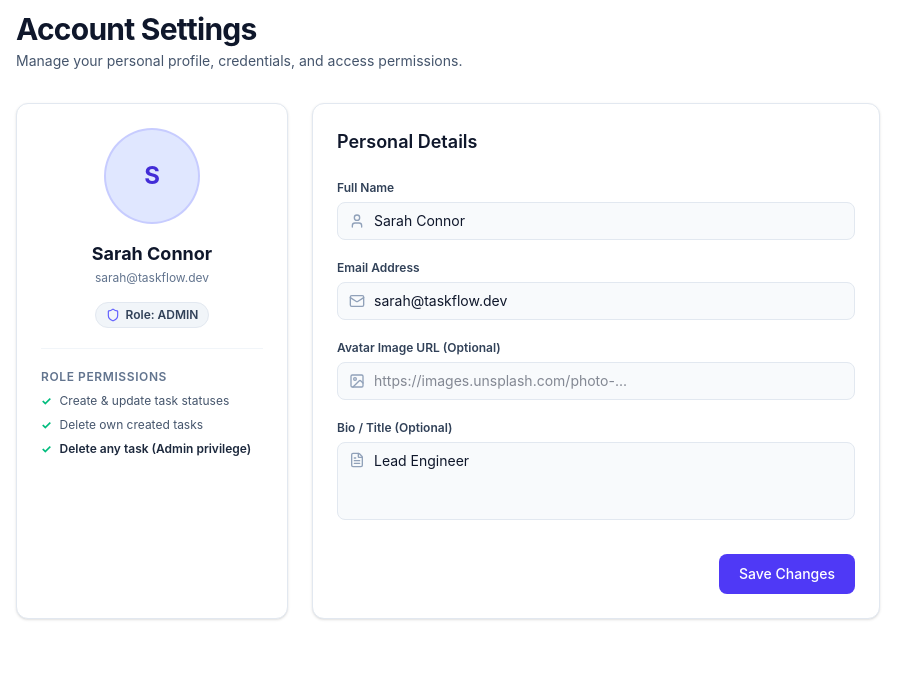
it: <ProfilePage /> › submits updated profile details on form save
Replace the text in the field showing "Sarah Connor" below "Full Name" with "Sarah J. Connor" at (596, 221), box [337,202,855,240]
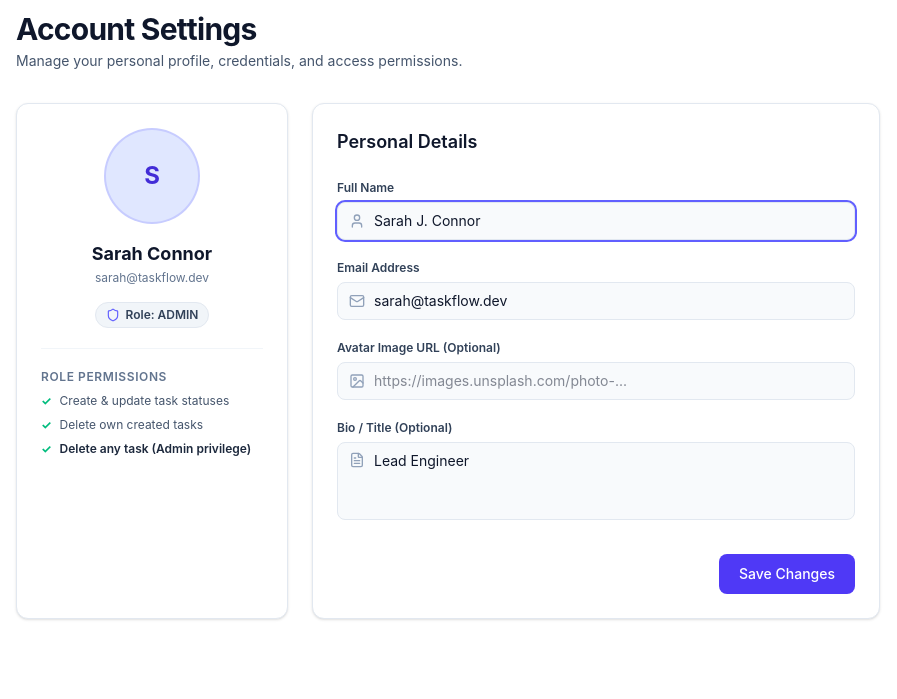
Click the button "Save Changes" at (787, 574), box [719,554,855,594]
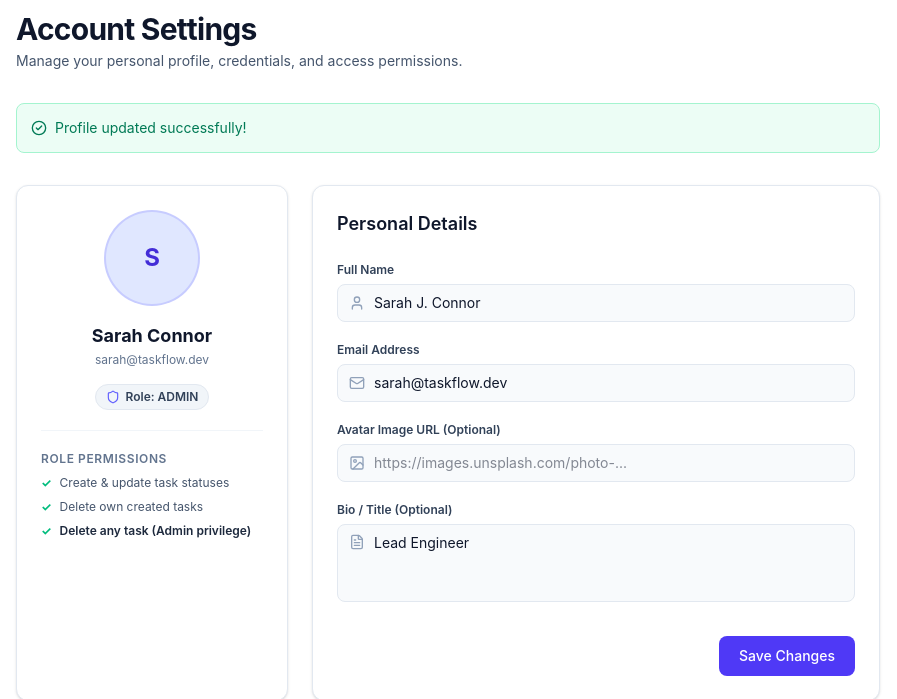
Expected: the text "Profile updated successfully!" is shown, [55,118,247,138]
